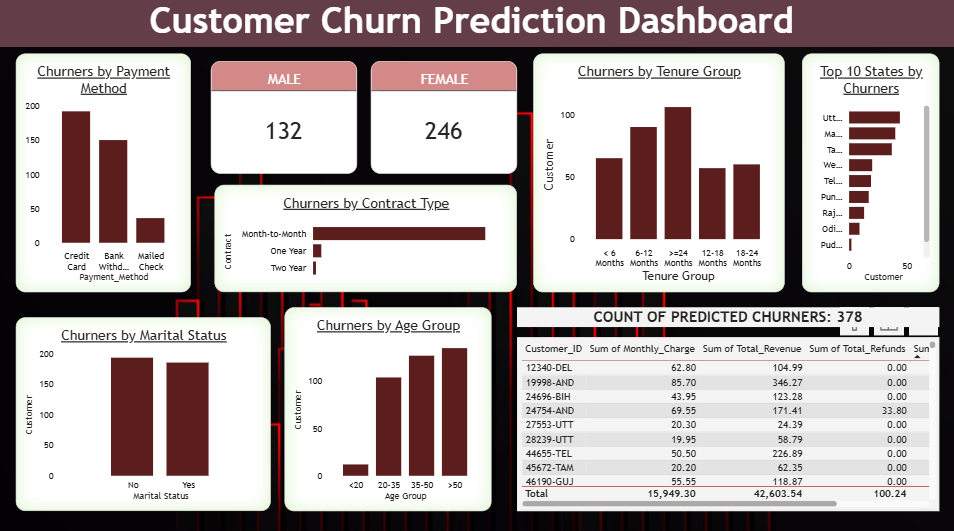

What the dashboard file says about the page in this screenshot:
{"tool":"powerbi","page":{"name":"Customer Churn Prediction Dashboard","canvas":[1280,720],"ordinal":2},"visuals":[{"type":"tableEx","fields":{"Values":["prediction.Customer_ID","Sum(prediction.Monthly_Charge)","Sum(prediction.Total_Revenue)","Sum(prediction.Total_Refunds)","Sum(prediction.Number_of_Referrals)"]},"box":[693.3,455,563.3,231.7],"z":0},{"type":"card","fields":{"Values":["Tbl_Measure.Title Predicted Churners"]},"box":[693.3,415,563.3,26.7],"z":1000},{"type":"card","title":"FEMALE","fields":{"Values":["Tbl_Measure.Count Predicted Churner"]},"box":[498.3,86.7,195,150],"z":2000},{"type":"card","title":"MALE","fields":{"Values":["Tbl_Measure.Count Predicted Churner"]},"box":[285,86.7,195,150],"z":3000},{"type":"clusteredColumnChart","title":"Churners by Age Group","fields":{"Category":["Mapping_AgeGrp.Age Group"],"Y":["CountNonNull(prediction.Customer_ID)"]},"box":[382.8,414.4,275.8,271.7],"z":4000},{"type":"clusteredColumnChart","title":"Churners by Marital Status","fields":{"Category":["prediction.Married"],"Y":["CountNonNull(prediction.Customer_ID)"]},"box":[25,428.3,340,258.3],"z":5000},{"type":"clusteredColumnChart","title":"Churners by Tenure Group","fields":{"Y":["CountNonNull(prediction.Customer_ID)"],"Category":["Mapping_TenureGrp.Tenure Group"]},"box":[715,76.7,335,318.3],"z":6000},{"type":"clusteredColumnChart","title":"Churners by Payment Method","fields":{"Category":["prediction.Payment_Method"],"Y":["CountNonNull(prediction.Customer_ID)"]},"box":[25,76.7,233.3,318.3],"z":7000},{"type":"clusteredBarChart","title":"Churners by Contract Type","fields":{"Category":["prediction.Contract"],"Y":["CountNonNull(prediction.Customer_ID)"]},"box":[290,251.7,403.3,143.3],"z":8000},{"type":"clusteredBarChart","title":"Top 10 States by Churners","fields":{"Category":["prediction.State"],"Y":["CountNonNull(prediction.Customer_ID)"]},"box":[1073.3,76.7,183.3,318.3],"z":9000},{"type":"textbox","box":[0,0,1280,68.3],"z":10000}]}

Visuals, with their boxes in screenshot pixels (x1, y1, x2, y2), scaled from the page's 1280x720 canvas onto the 954x531 screenshot:
tableEx - prediction.Customer_ID x Sum(prediction.Monthly_Charge): bbox(517, 336, 937, 506)
card - Tbl_Measure.Title Predicted Churners: bbox(517, 306, 937, 326)
"FEMALE" card: bbox(371, 64, 517, 175)
"MALE" card: bbox(212, 64, 358, 175)
"Churners by Age Group" clusteredColumnChart: bbox(285, 306, 491, 506)
"Churners by Marital Status" clusteredColumnChart: bbox(19, 316, 272, 506)
"Churners by Tenure Group" clusteredColumnChart: bbox(533, 57, 783, 291)
"Churners by Payment Method" clusteredColumnChart: bbox(19, 57, 193, 291)
"Churners by Contract Type" clusteredBarChart: bbox(216, 186, 517, 291)
"Top 10 States by Churners" clusteredBarChart: bbox(800, 57, 937, 291)
textbox: bbox(0, 0, 953, 50)
